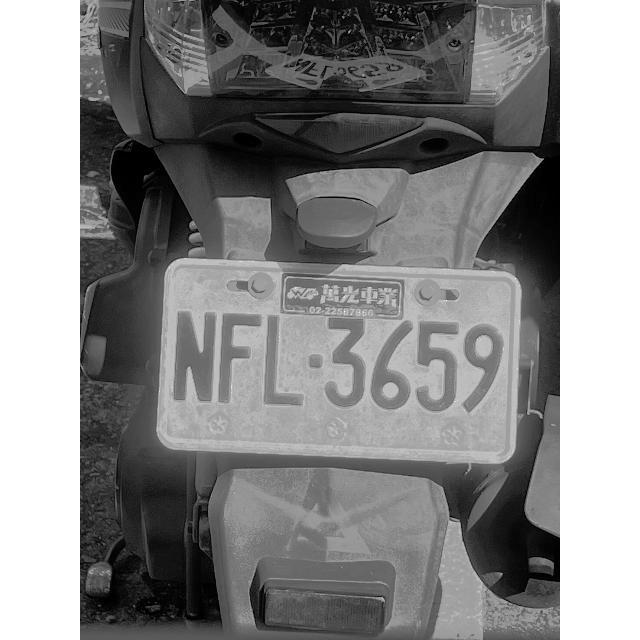-: (308, 348, 324, 374)
3: (324, 310, 368, 412)
5: (417, 316, 461, 410)
6: (371, 311, 417, 413)
9: (464, 319, 504, 413)
F: (216, 306, 262, 404)
L: (262, 311, 306, 411)
N: (172, 306, 216, 406)
